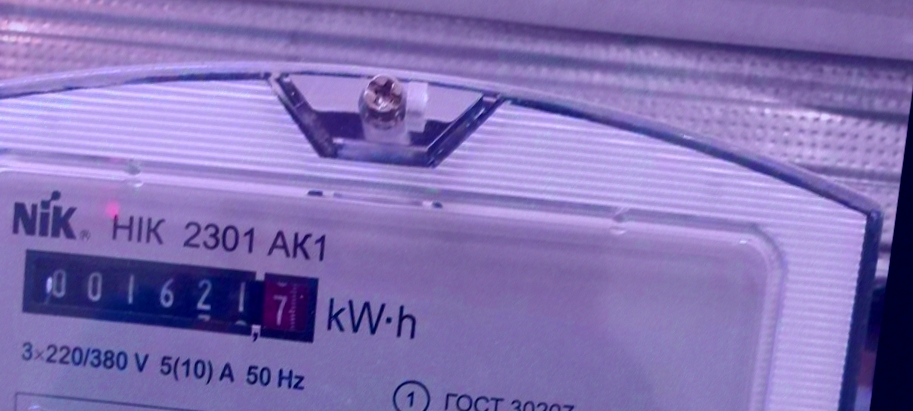0: (81, 265, 108, 304), (47, 262, 71, 299)
1: (232, 275, 251, 314), (121, 268, 140, 306)
2: (192, 274, 218, 312)
6: (155, 273, 179, 309)
7: (266, 289, 290, 327)
screen: (12, 234, 328, 355)
